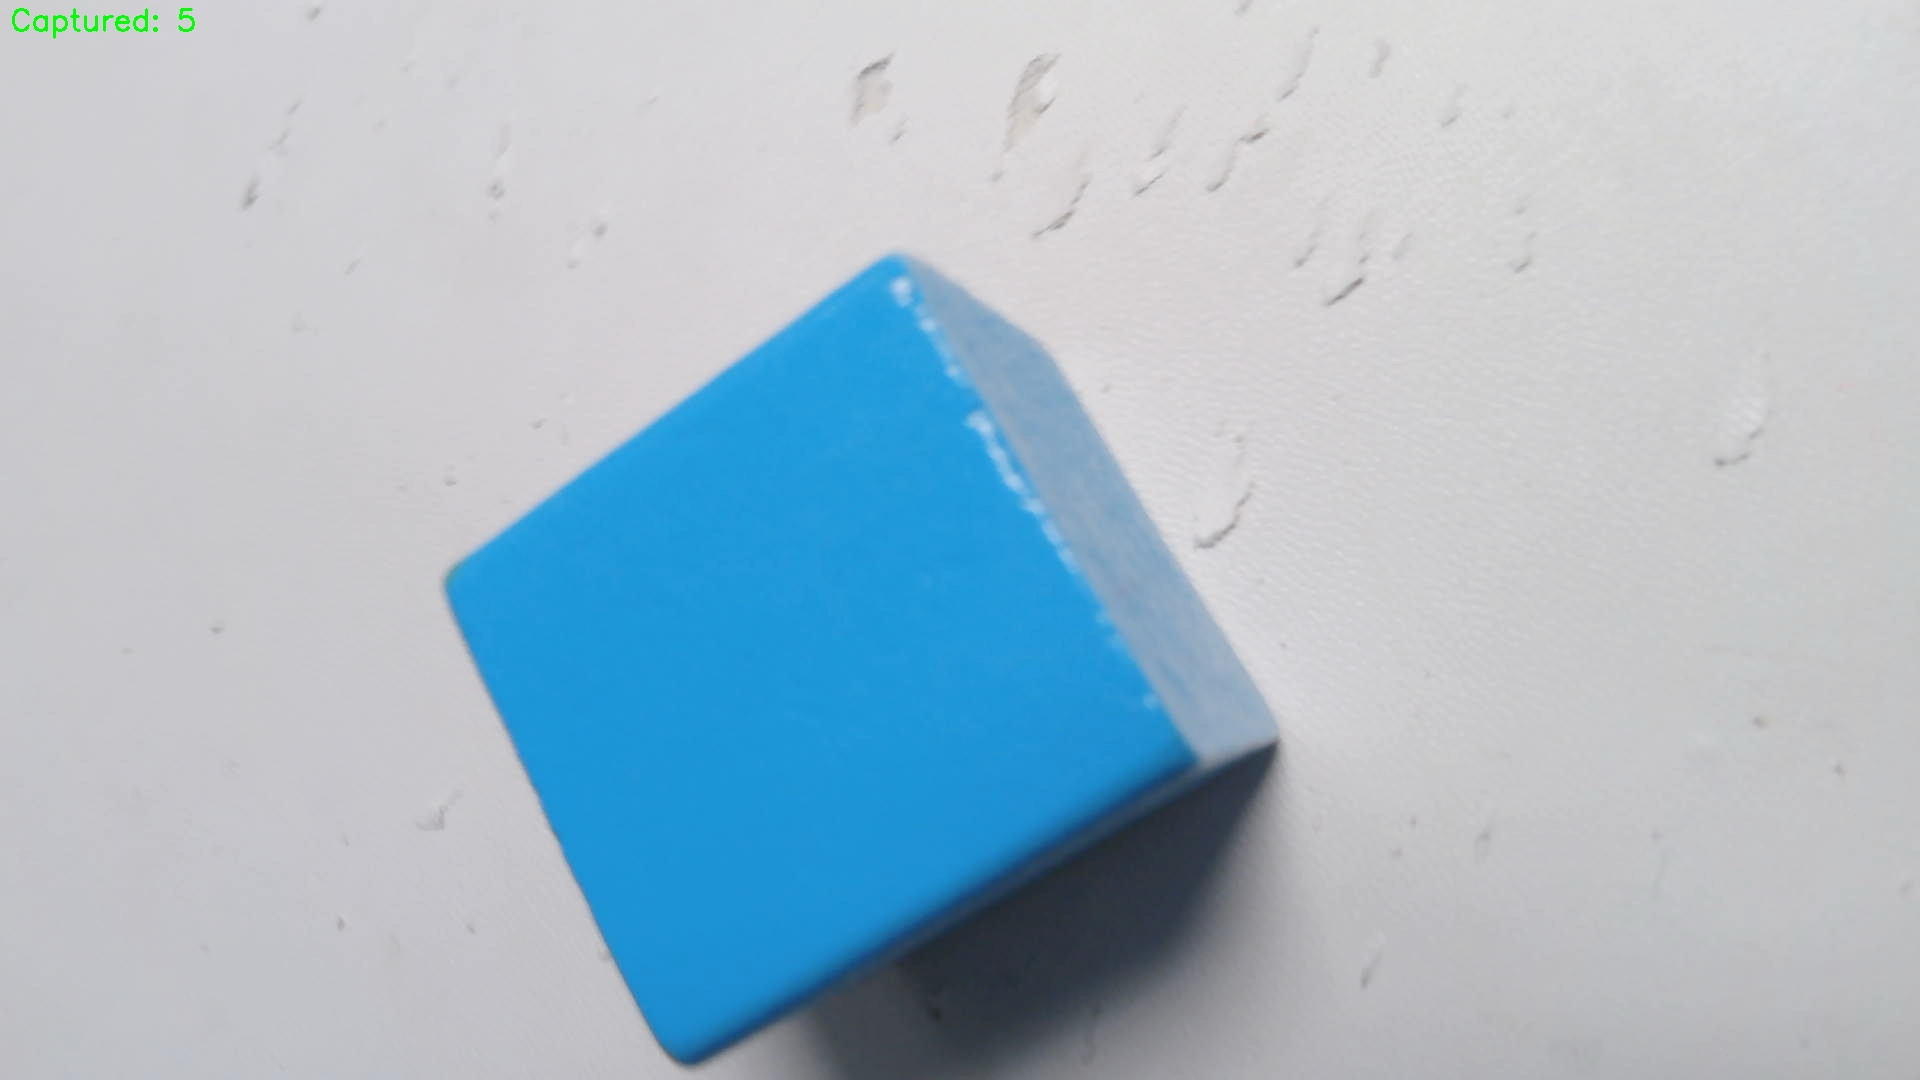blue: (440, 261, 1287, 1054)
